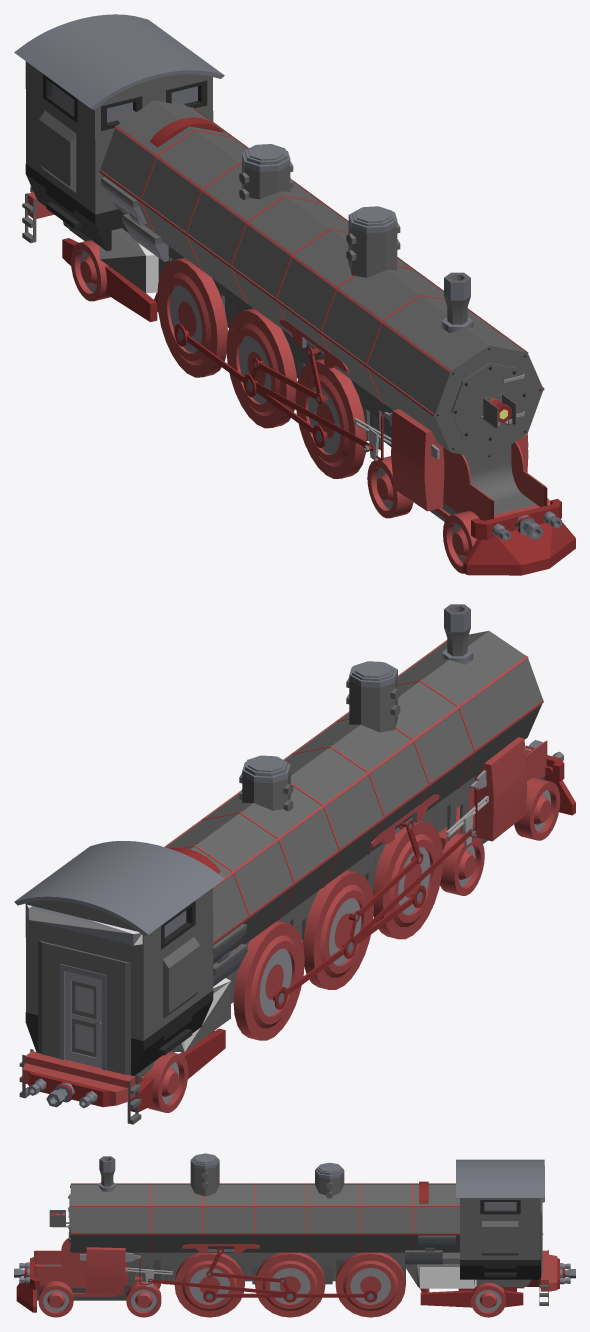
The model's file is train3.glb.
3 renders of one model, top to bottom at view 1: azimuth 30°, elevation 25°; view 2: azimuth 150°, elevation 25°; view 3: azimuth 270°, elevation 25°, orthographic. The views are drawn at different scales.
Visible parts, largest first — view 1: SteamTtrain; view 2: SteamTtrain, window; view 3: SteamTtrain, window.
Part boxes in pixels (x1=…): SteamTtrain: x1=14, y1=14, x2=575, y2=575; SteamTtrain: x1=14, y1=604, x2=575, y2=1124; window: x1=75, y1=910, x2=186, y2=1052; SteamTtrain: x1=14, y1=1153, x2=575, y2=1317; window: x1=484, y1=1202, x2=516, y2=1210.
Size of the model in its own units: 1.23 by 2.22 by 7.68.
